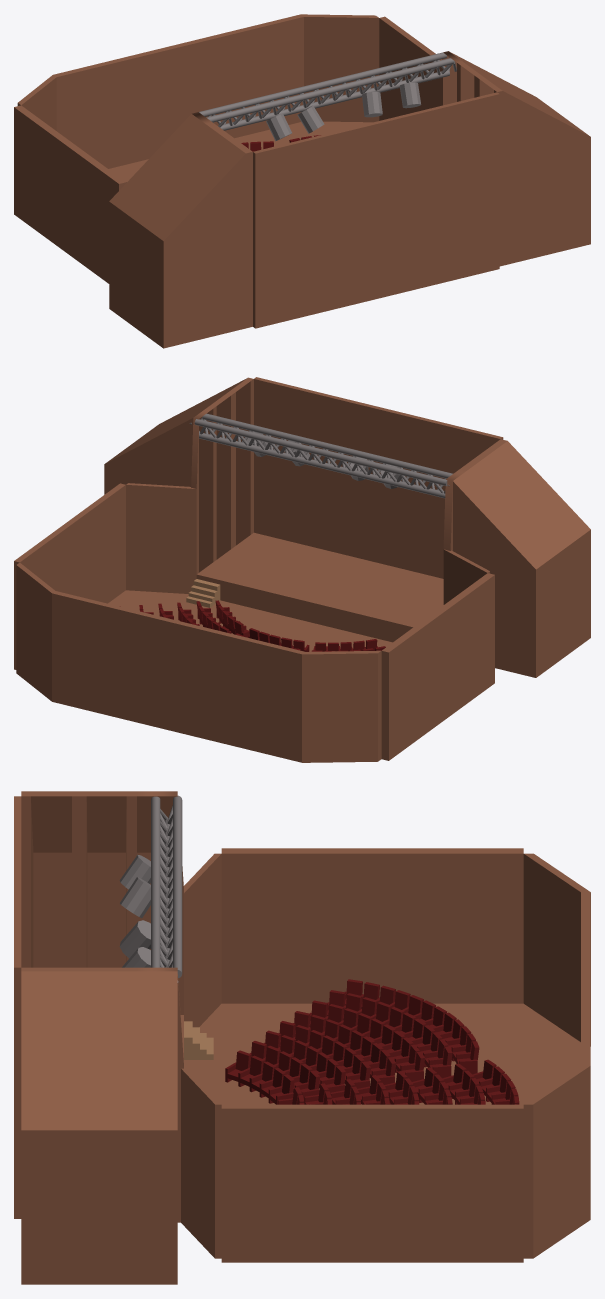
File: Theater_MockUp_Model.fbx
The picture shows the model from 3 angles, top to bottom: view 1: azimuth 30°, elevation 25°; view 2: azimuth 150°, elevation 25°; view 3: azimuth 270°, elevation 25°; orthographic projection. The views are drawn at different scales.
Parts seen in each view (by area): view 1: Walls_Floor, pCylinder2, pCylinder1, balk22, pCylinder4, lamp_links1, lamp_links2, lamp_rechts2, lamp_recht1; view 2: Walls_Floor, pCylinder1, pCylinder2, MiddleRow_1 (×3), balk22, pCylinder4, Stairs; view 3: Walls_Floor, MiddleRow_8 (×2), MiddleRow_7 (×2), MiddleRow_6 (×2), MiddleRow_5 (×2), MiddleRow_4 (×2), MiddleRow_1, balk22, MiddleRow_3, pCylinder1, pCylinder2, MiddleRow_2 (+4 smaller).
Part boxes in pixels (<box>): Walls_Floor: <box>14,14,590,348</box>; pCylinder2: <box>206,58,454,122</box>; pCylinder1: <box>199,52,446,116</box>; balk22: <box>208,57,456,127</box>; pCylinder4: <box>220,70,449,130</box>; lamp_links1: <box>362,92,382,117</box>; lamp_links2: <box>399,82,421,108</box>; lamp_rechts2: <box>266,113,291,141</box>; lamp_recht1: <box>297,105,324,133</box>; Walls_Floor: <box>14,377,590,762</box>; pCylinder1: <box>194,419,447,486</box>; pCylinder2: <box>202,413,452,478</box>; MiddleRow_1 (×3): <box>215,600,377,651</box>; balk22: <box>189,417,449,493</box>; pCylinder4: <box>199,433,445,498</box>; Stairs: <box>186,579,220,607</box>; Walls_Floor: <box>14,791,590,1284</box>; MiddleRow_8 (×2): <box>345,979,519,1104</box>; MiddleRow_7 (×2): <box>327,990,485,1104</box>; MiddleRow_6 (×2): <box>309,1000,452,1104</box>; MiddleRow_5 (×2): <box>293,1011,419,1104</box>; MiddleRow_4 (×2): <box>278,1021,389,1104</box>; MiddleRow_1: <box>225,1050,294,1104</box>; balk22: <box>160,805,178,982</box>; MiddleRow_3: <box>264,1030,345,1092</box>; pCylinder1: <box>173,795,182,977</box>; pCylinder2: <box>151,796,160,967</box>; MiddleRow_2: <box>249,1041,320,1100</box>.
Size of the model in its own units: 69.46 by 27.17 by 56.53.
